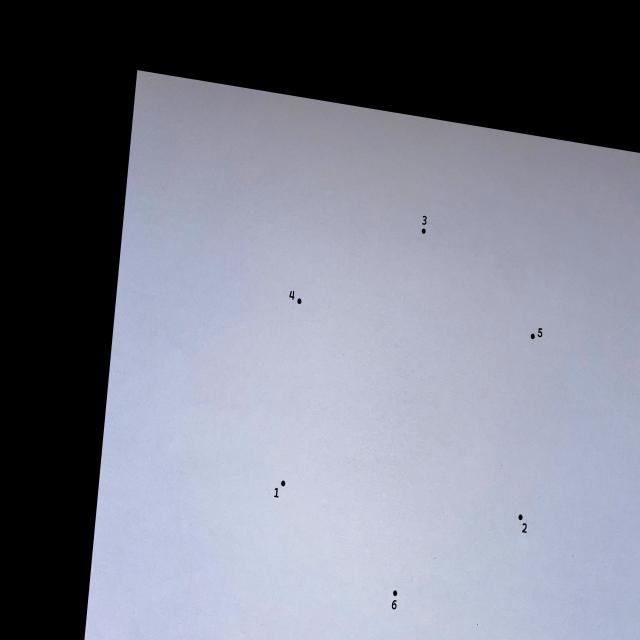Dot: (530, 332, 536, 340), (297, 298, 302, 305), (518, 514, 523, 521), (421, 228, 426, 234), (393, 590, 397, 596), (281, 481, 285, 486)
DotNumber: (288, 290, 302, 305), (274, 481, 286, 498), (518, 514, 528, 534), (530, 327, 542, 340), (392, 590, 398, 610), (421, 216, 427, 234)
Number: (289, 290, 295, 301), (537, 327, 543, 338), (522, 522, 527, 534), (422, 215, 427, 226), (392, 599, 397, 610), (274, 488, 279, 498)
